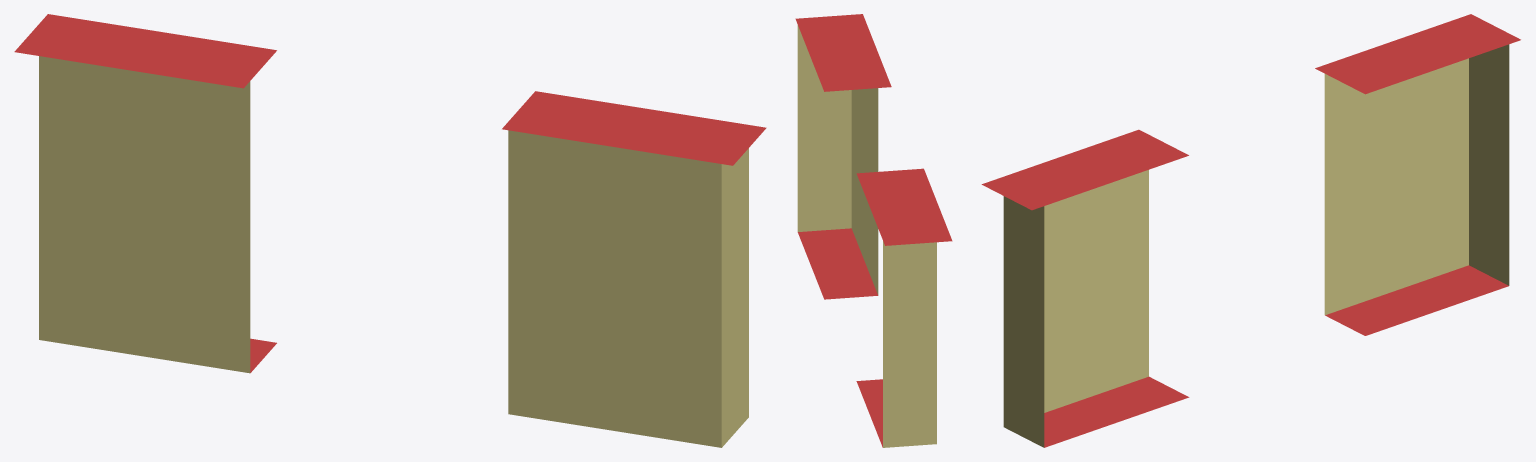
3 views of the same model, side by side, from view 1: azimuth 30°, elevation 25°; view 2: azimuth 150°, elevation 25°; view 3: azimuth 270°, elevation 25° (orthographic). The views are drawn at different scales.
Size of the model in its own units: 14.63 by 17.01 by 8.4.
